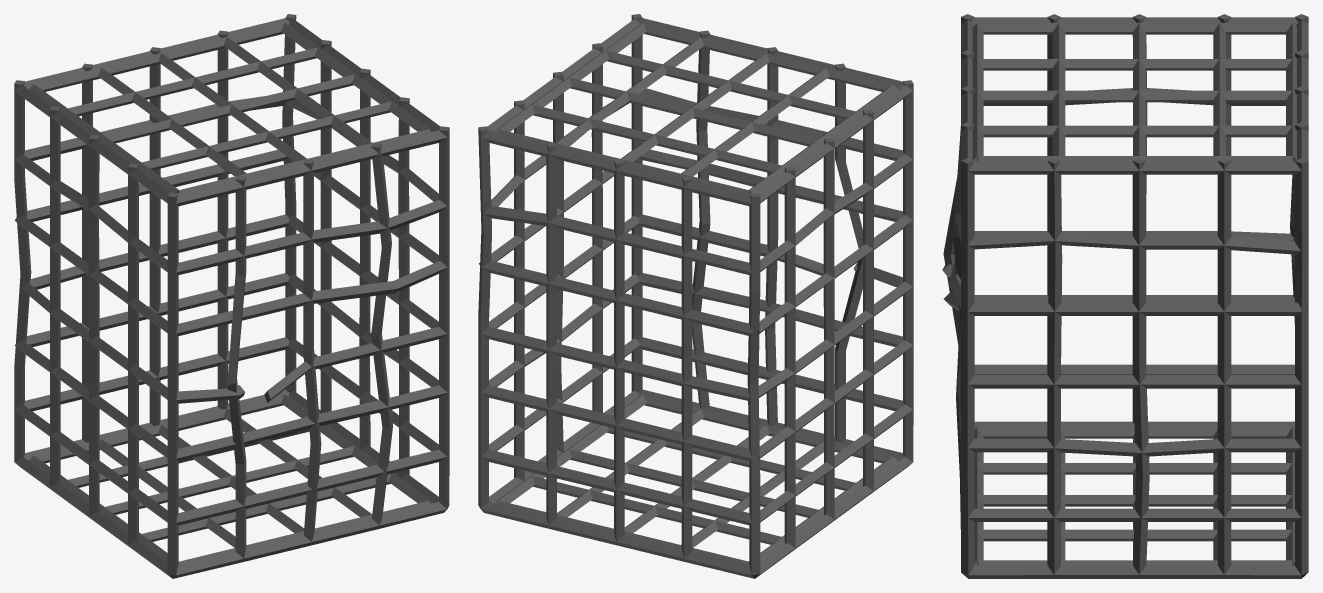
File: IronCage.fbx
3 renders of one model, left to right at view 1: azimuth 30°, elevation 25°; view 2: azimuth 150°, elevation 25°; view 3: azimuth 270°, elevation 25°, orthographic. The views are drawn at different scales.
Visible parts, largest first — view 1: IronCage; view 2: IronCage; view 3: IronCage.
Boxes of the visible parts, x1=… form: IronCage: x1=14, y1=14, x2=449, y2=578; IronCage: x1=478, y1=14, x2=913, y2=578; IronCage: x1=942, y1=14, x2=1308, y2=578.
Size of the model in its own units: 219 by 284 by 226.
Materials: 2 (2 with a texture image).
